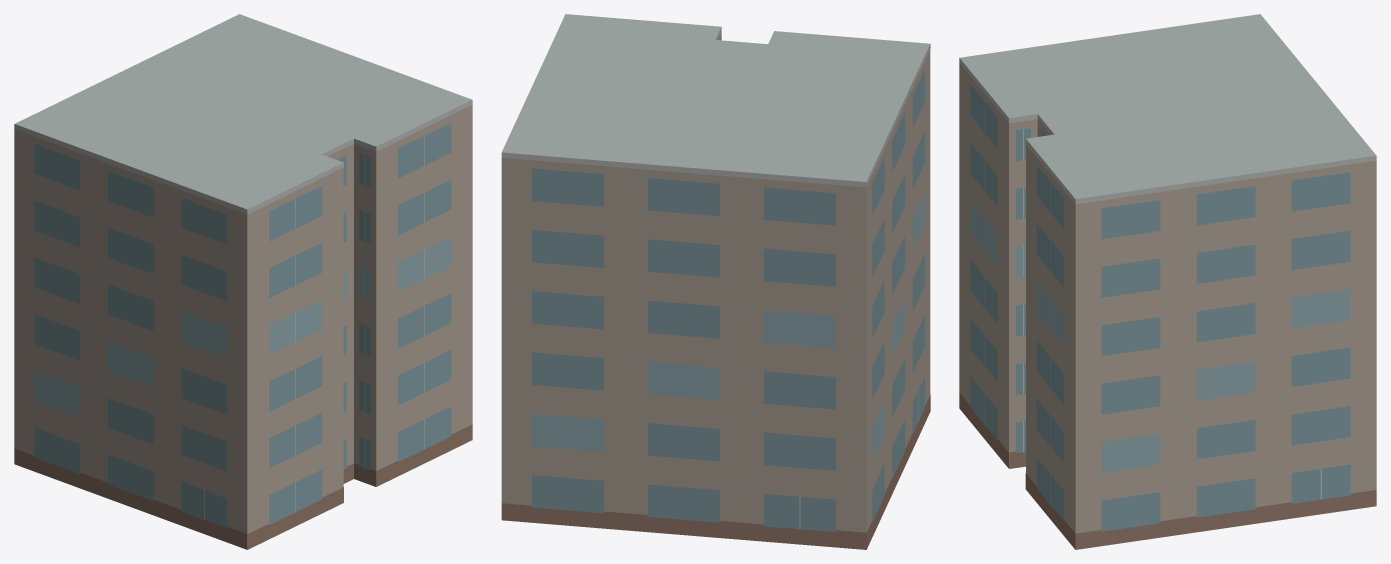
Rendered from survey-upis-32989989.glb.
The picture shows the model from 3 angles, left to right: view 1: azimuth 30°, elevation 25°; view 2: azimuth 150°, elevation 25°; view 3: azimuth 270°, elevation 25°; orthographic projection. The views are drawn at different scales.
Visible parts, largest first — view 1: survey-upis-32989989.tmp; view 2: survey-upis-32989989.tmp; view 3: survey-upis-32989989.tmp.
Boxes of the visible parts, box(x1,y1,x2,y2) form: survey-upis-32989989.tmp: box(14, 14, 472, 549); survey-upis-32989989.tmp: box(501, 14, 930, 549); survey-upis-32989989.tmp: box(959, 14, 1376, 549).
Bounding box in the file's own units: 18.87 × 16.65 × 17.96.
